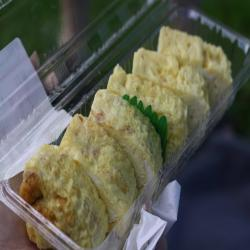omelette: (26, 93, 164, 244), (109, 28, 232, 154)
